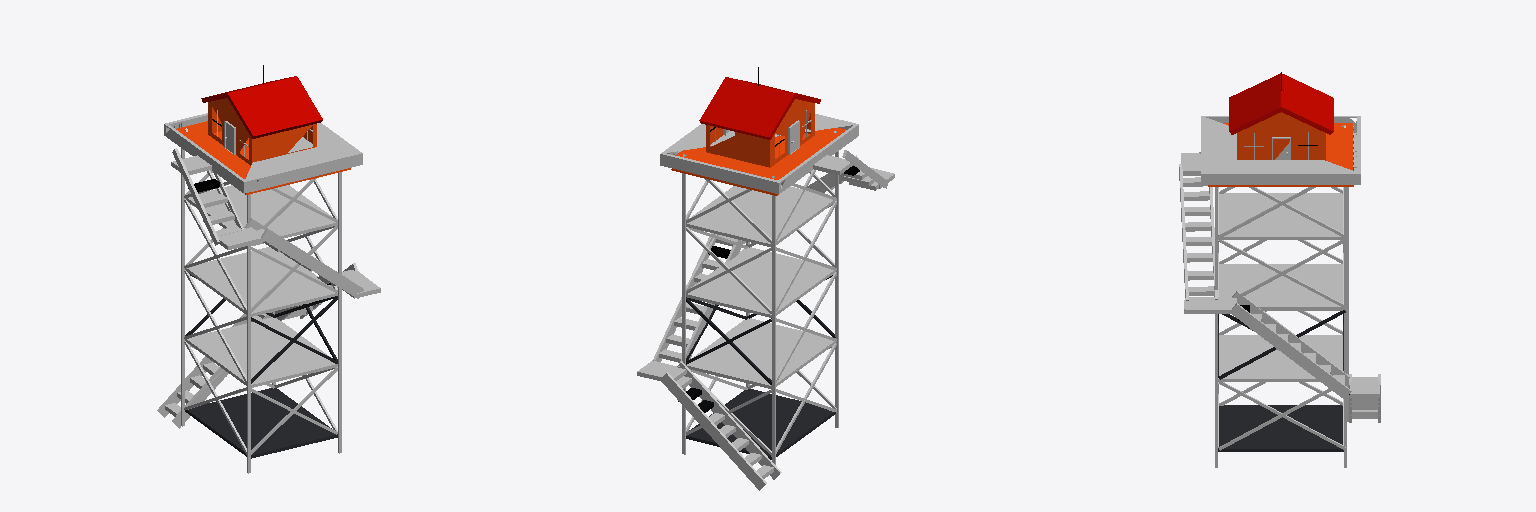
Rendered from WatchTower.obj.
3 renders of one model, left to right at view 1: azimuth 30°, elevation 25°; view 2: azimuth 150°, elevation 25°; view 3: azimuth 270°, elevation 25°, orthographic.
Parts seen in each view (by area): view 1: Cube.070, Cube.032, walls, roof; view 2: Cube.070, walls, roof, Cube.032; view 3: Cube.070, Cube.032, walls, roof.
Boxes of the visible parts, x1=… form: Cube.070: x1=157, y1=128, x2=380, y2=473; Cube.032: x1=164, y1=113, x2=362, y2=193; walls: x1=176, y1=98, x2=350, y2=194; roof: x1=201, y1=76, x2=322, y2=138; Cube.070: x1=637, y1=130, x2=894, y2=490; walls: x1=671, y1=93, x2=845, y2=195; roof: x1=699, y1=77, x2=820, y2=139; Cube.032: x1=660, y1=114, x2=858, y2=193; Cube.070: x1=1179, y1=125, x2=1380, y2=467; Cube.032: x1=1201, y1=116, x2=1360, y2=184; walls: x1=1208, y1=112, x2=1353, y2=186; roof: x1=1229, y1=73, x2=1333, y2=134.
Bounding box in the file's own units: 12.52 × 27.9 × 13.62.